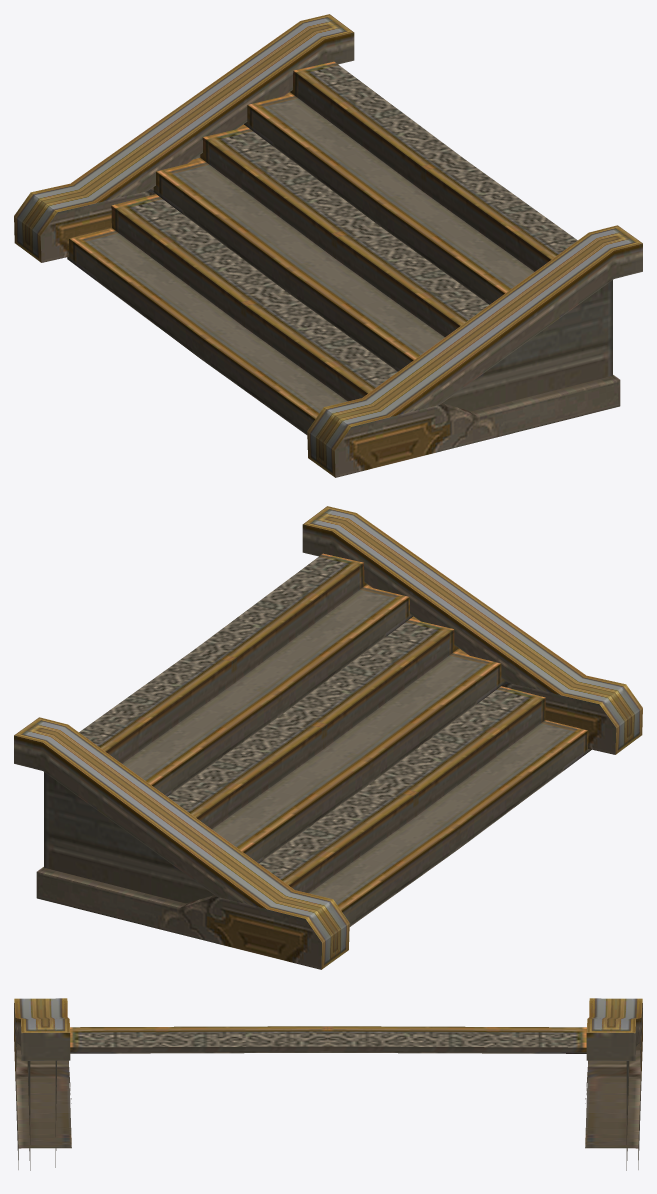
The model's file is Yland1_lt_03 Yland1.FBX.
3 views of the same model, one above another, from view 1: azimuth 30°, elevation 25°; view 2: azimuth 150°, elevation 25°; view 3: azimuth 270°, elevation 25° (orthographic). The views are drawn at different scales.
Visible parts, largest first — view 1: Yland1_lt_03 Yland1; view 2: Yland1_lt_03 Yland1; view 3: Yland1_lt_03 Yland1.
Boxes of the visible parts, bbox=[...] form: Yland1_lt_03 Yland1: bbox=[14, 14, 642, 477]; Yland1_lt_03 Yland1: bbox=[14, 506, 642, 969]; Yland1_lt_03 Yland1: bbox=[14, 998, 642, 1170].
Size of the model in its own units: 6.03 by 2.96 by 10.73.
